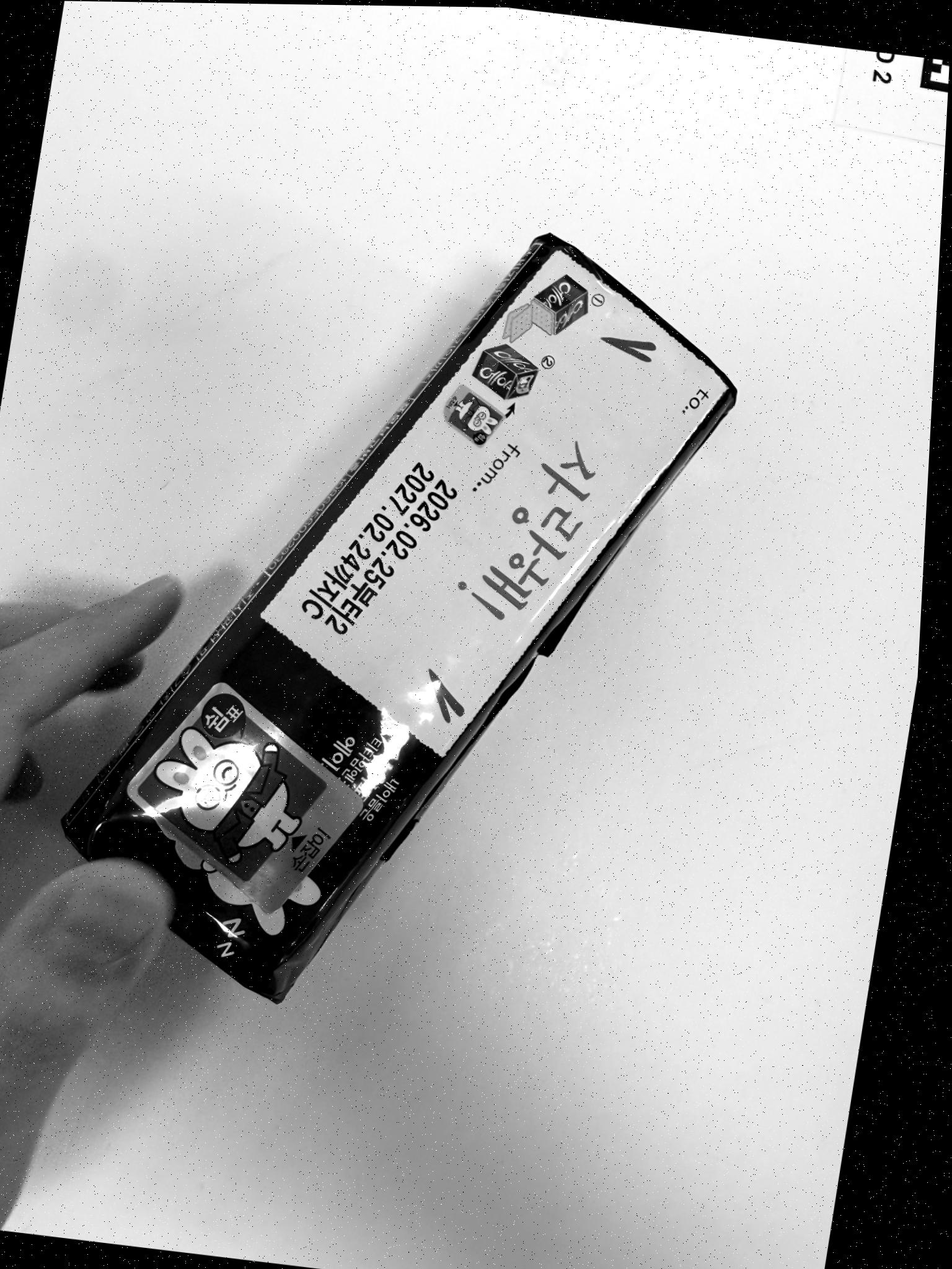cracker_ace: (63, 235, 735, 1002)
